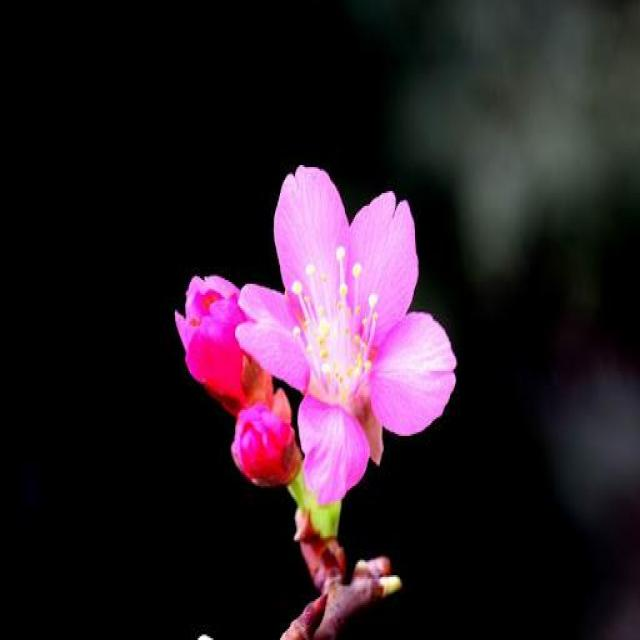organic waste: (238, 154, 464, 503)
